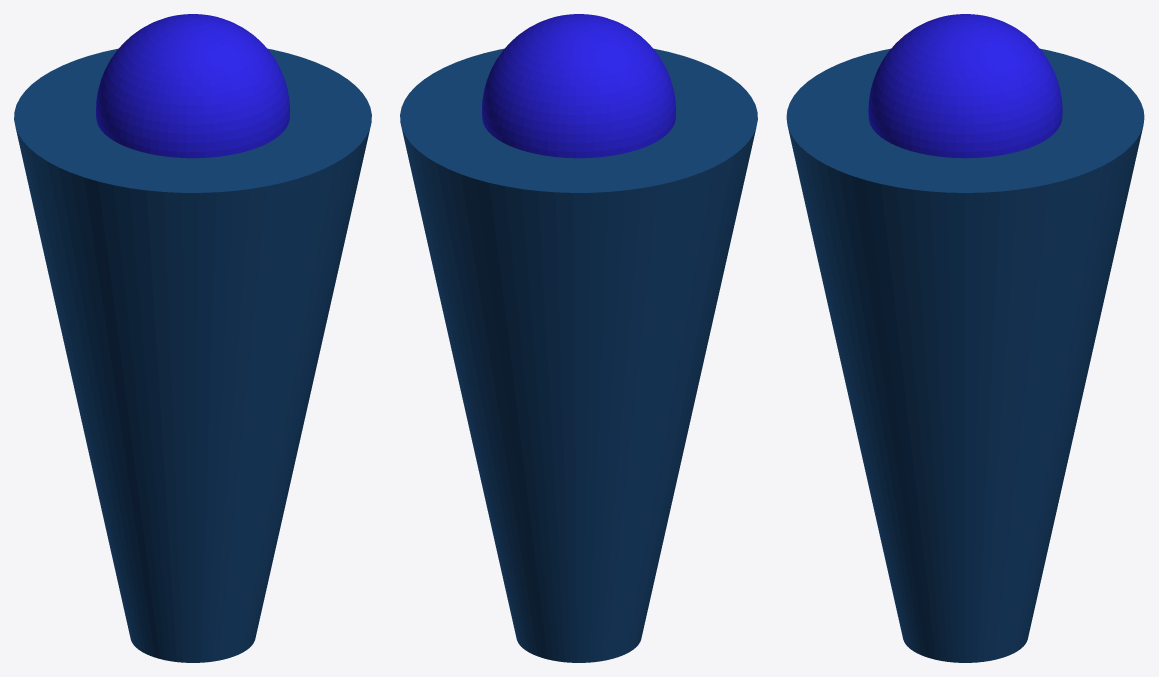
File: clone.glb
3 views of the same model, side by side, from view 1: azimuth 30°, elevation 25°; view 2: azimuth 150°, elevation 25°; view 3: azimuth 270°, elevation 25° (orthographic).
Parts seen in each view (by area): view 1: Clone; view 2: Clone; view 3: Clone.
Boxes of the visible parts, <box> form: Clone: <box>14,14,371,662</box>; Clone: <box>400,14,757,662</box>; Clone: <box>786,14,1144,662</box>.
Bounding box in the file's own units: 1 × 1.89 × 1.
